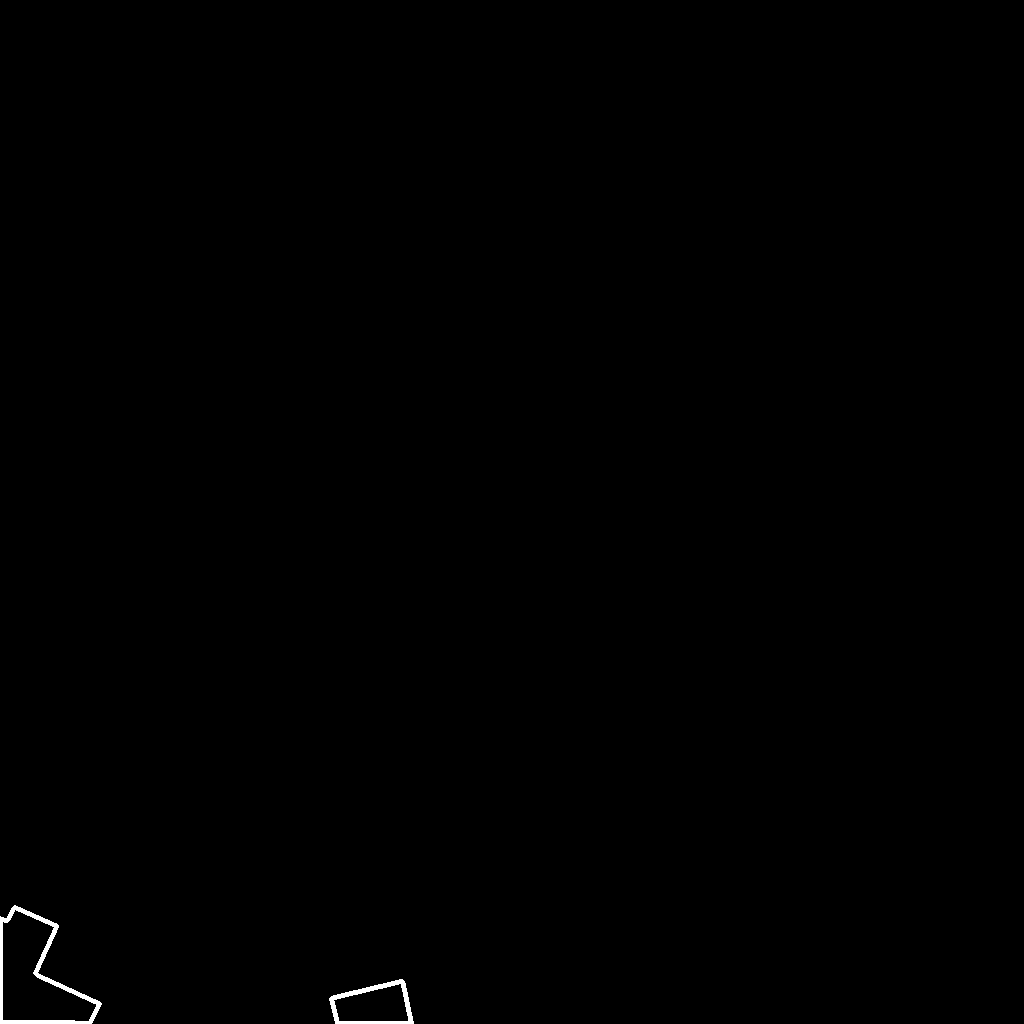building: (0, 907, 101, 1024), (331, 981, 413, 1024)
